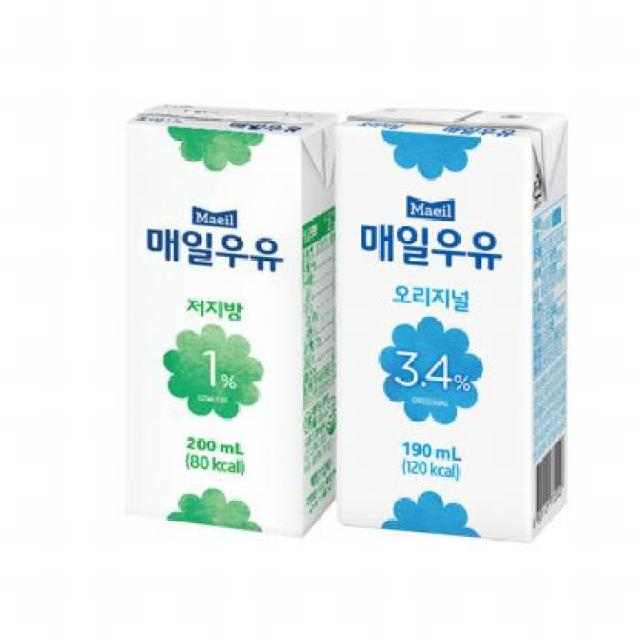tetra: (332, 73, 585, 556), (110, 82, 338, 544)
